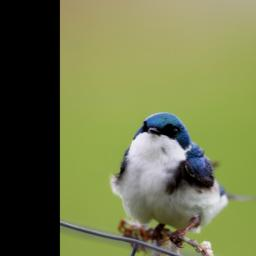Swallow: (108, 111, 256, 249)
